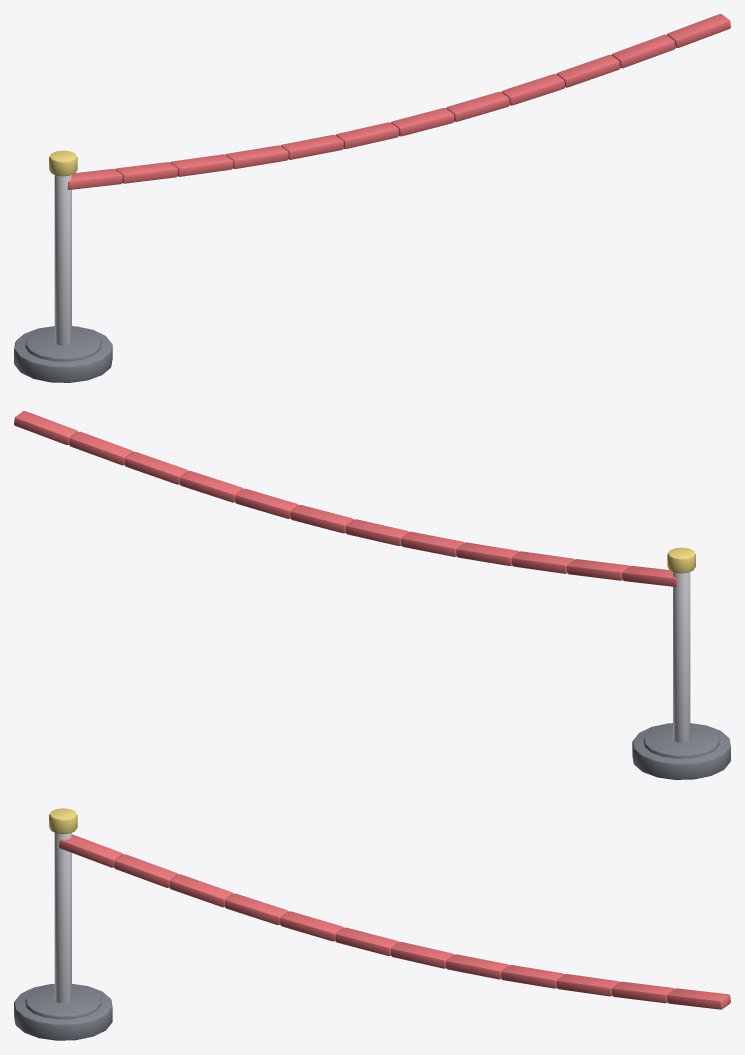
Rendered from th33_warteschlange_modul.glb.
The picture shows the model from 3 angles, top to bottom: view 1: azimuth 30°, elevation 25°; view 2: azimuth 150°, elevation 25°; view 3: azimuth 330°, elevation 25°; orthographic projection.
Parts seen in each view (by area): view 1: Cylinder.002, Cylinder, Cylinder.001, Cube.011, Cube.010, Cube.009, Cube.008, Cube.007, Cube.006, Cube.005, Cube.004, Cube.003 (+4 smaller); view 2: Cylinder.002, Cylinder, Cylinder.001, Cube.011, Cube.010, Cube.009, Cube.008, Cube.007, Cube.006, Cube.005, Cube.004, Cube.003 (+4 smaller); view 3: Cylinder.002, Cylinder, Cylinder.001, Cube.001, Cube.002, Cube.003, Cube, Cube.004, Cube.005, Cube.011, Cube.006, Cube.007 (+4 smaller).
Part boxes in pixels (x1,y1,x2,y2): Cylinder.002: (54,175,71,345); Cylinder: (14,326,112,382); Cylinder.001: (25,327,101,361); Cube.011: (667,14,730,47); Cube.010: (612,34,675,68); Cube.009: (556,54,620,87); Cube.008: (501,74,564,105); Cube.007: (446,91,509,121); Cube.006: (391,108,454,136); Cube.005: (336,122,398,148); Cube.004: (281,134,343,159); Cube.003: (225,145,288,168); Cylinder.002: (673,572,690,742); Cylinder: (632,723,730,779); Cylinder.001: (643,724,719,758); Cube.011: (14,411,77,444); Cube.010: (69,431,132,465); Cube.009: (124,451,188,484); Cube.008: (180,471,243,502); Cube.007: (235,488,298,518); Cube.006: (290,505,353,533); Cube.005: (346,519,408,545); Cube.004: (401,531,463,556); Cube.003: (456,542,519,565); Cylinder.002: (54,833,71,1003); Cylinder: (14,984,112,1040); Cylinder.001: (25,985,101,1019); Cube.001: (114,854,178,887); Cube.002: (169,874,233,907); Cube.003: (225,893,288,924); Cube: (59,834,122,867); Cube.004: (280,911,343,941); Cube.005: (335,927,398,955); Cube.011: (667,988,730,1009); Cube.006: (391,942,453,968); Cube.007: (446,954,508,979).
Bounding box in the file's own units: 4.26 × 1.19 × 0.52.
